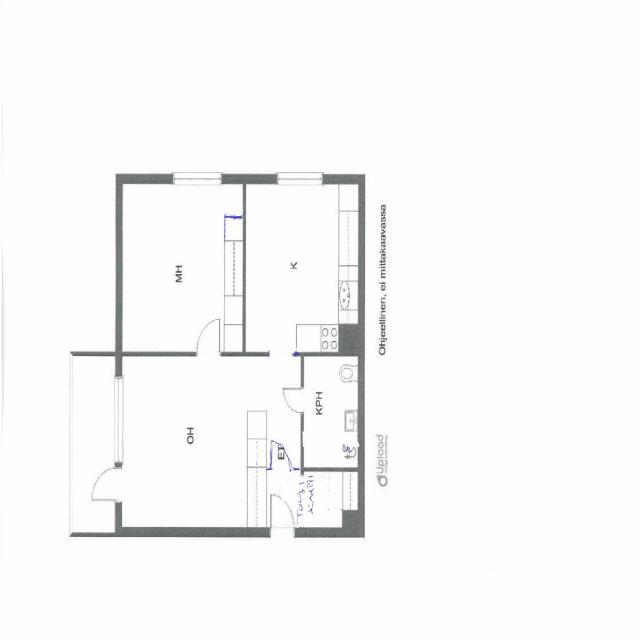door: (270, 494, 294, 537), (92, 467, 122, 501), (197, 319, 220, 357), (271, 437, 292, 471), (284, 389, 304, 412)
